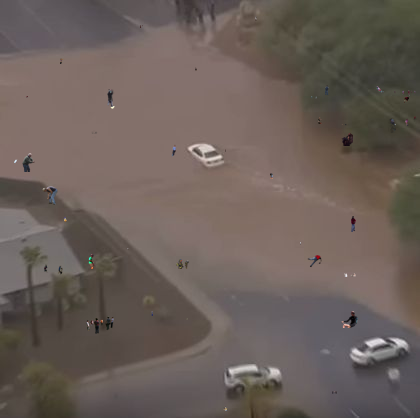Human: (388, 116, 418, 133), (86, 316, 114, 334), (320, 131, 353, 146), (301, 255, 322, 278), (42, 186, 58, 205), (341, 311, 358, 328), (22, 153, 35, 172), (44, 264, 63, 276), (107, 89, 115, 109), (176, 259, 190, 269), (394, 90, 416, 96), (88, 254, 95, 269), (351, 216, 356, 232), (171, 144, 176, 158), (376, 86, 384, 93), (91, 130, 98, 138), (344, 273, 356, 277), (325, 85, 329, 95), (339, 124, 351, 127), (14, 159, 18, 167), (404, 97, 409, 103), (60, 58, 65, 64), (318, 117, 322, 124), (223, 406, 228, 411), (270, 173, 273, 179), (64, 216, 67, 222), (311, 96, 317, 99), (332, 391, 337, 394), (151, 311, 153, 316), (255, 16, 257, 21), (140, 25, 143, 28), (195, 67, 197, 71), (186, 318, 188, 320), (26, 96, 28, 98), (127, 248, 129, 250), (300, 242, 301, 245), (225, 149, 226, 152)
